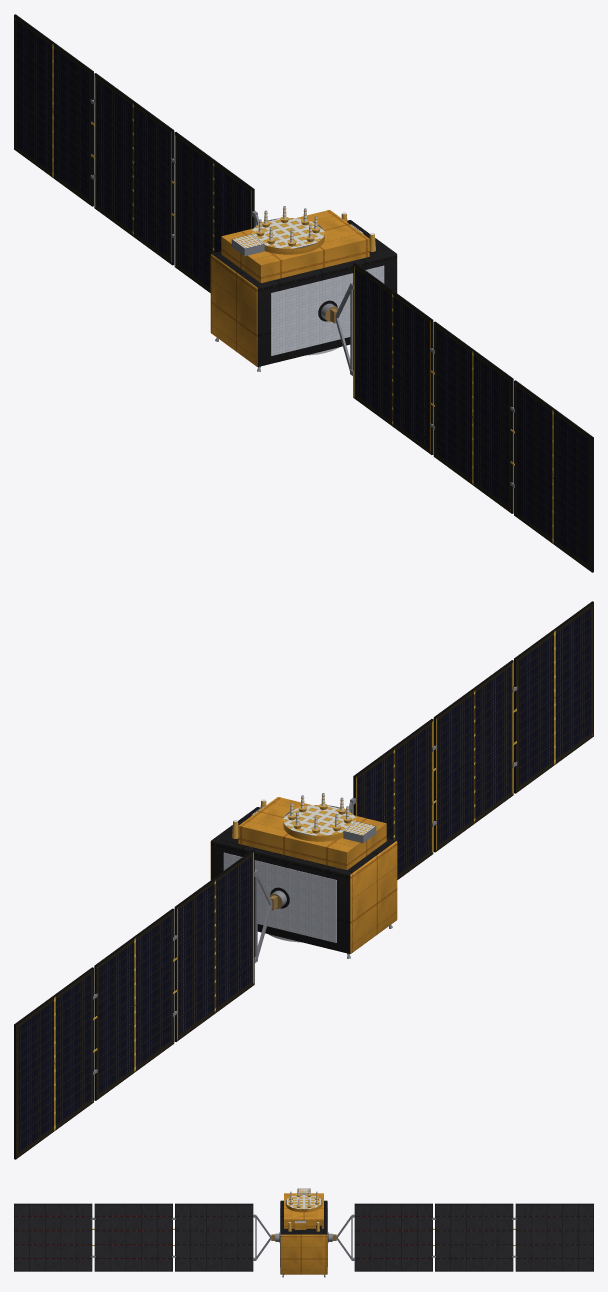
The model's file is bds3-meo-cast.glb.
3 views of the same model, one above another, from view 1: azimuth 30°, elevation 25°; view 2: azimuth 150°, elevation 25°; view 3: azimuth 270°, elevation 25° (orthographic). The views are drawn at different scales.
Parts seen in each view (by area): view 1: wing-Y, wing+Y, bus, radiators_osr, nav_antenna_deck; view 2: wing+Y, wing-Y, bus, radiators_osr, nav_antenna_deck; view 3: wing+Y, wing-Y, bus, nav_antenna_deck.
Boxes of the visible parts, x1=… form: wing-Y: x1=330, y1=263, x2=593, y2=572; wing+Y: x1=14, y1=14, x2=258, y2=292; bus: x1=210, y1=210, x2=397, y2=366; radiators_osr: x1=271, y1=265, x2=384, y2=355; nav_antenna_deck: x1=231, y1=206, x2=375, y2=256; wing+Y: x1=14, y1=850, x2=277, y2=1159; wing-Y: x1=349, y1=601, x2=593, y2=879; bus: x1=210, y1=797, x2=397, y2=953; radiators_osr: x1=223, y1=852, x2=336, y2=942; nav_antenna_deck: x1=232, y1=793, x2=376, y2=843; wing+Y: x1=332, y1=1203, x2=593, y2=1271; wing-Y: x1=14, y1=1203, x2=275, y2=1271; bus: x1=280, y1=1193, x2=327, y2=1274; nav_antenna_deck: x1=285, y1=1188, x2=322, y2=1231.
Size of the model in its own units: 1.97 by 1.96 by 14.
16 materials, 6 textured.
